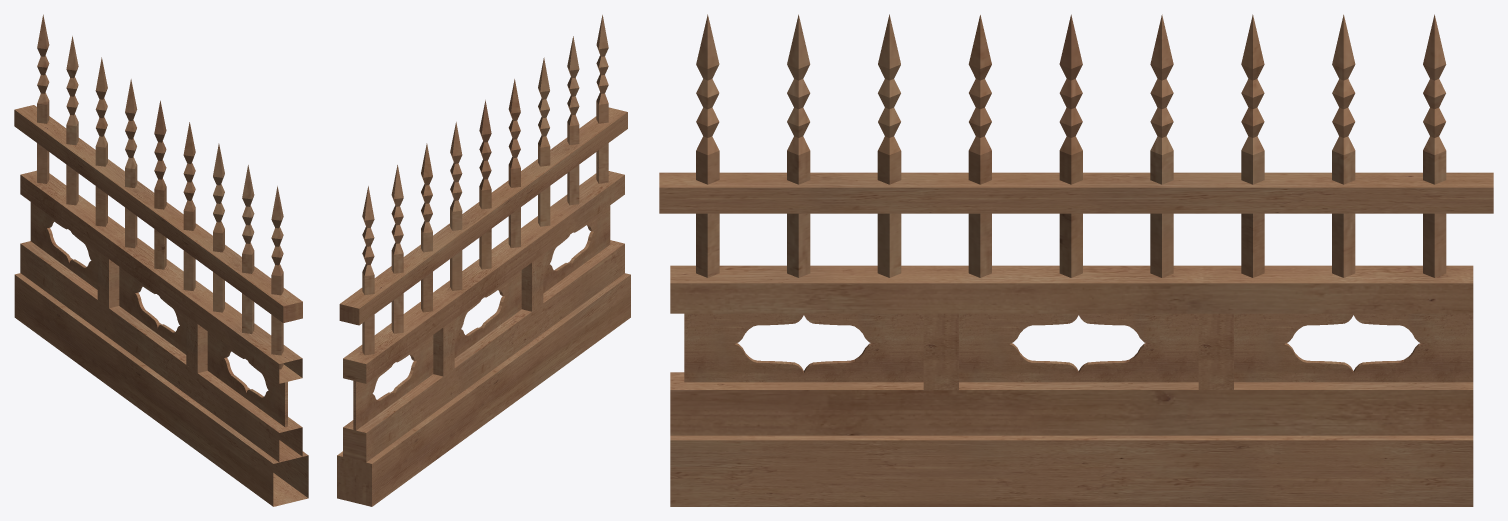
File: SM_JSH_HG_Woodornament.fbx
3 renders of one model, left to right at view 1: azimuth 30°, elevation 25°; view 2: azimuth 150°, elevation 25°; view 3: azimuth 270°, elevation 25°, orthographic. The views are drawn at different scales.
Visible parts, largest first — view 1: SM_JSH_HG_Woodornament; view 2: SM_JSH_HG_Woodornament; view 3: SM_JSH_HG_Woodornament.
Boxes of the visible parts, x1=… form: SM_JSH_HG_Woodornament: x1=14, y1=14, x2=308, y2=506; SM_JSH_HG_Woodornament: x1=337, y1=15, x2=630, y2=506; SM_JSH_HG_Woodornament: x1=659, y1=14, x2=1493, y2=506.
Bounding box in the file's own units: 11.45 × 152 × 96.2.
Materials: 1 (1 with a texture image).
